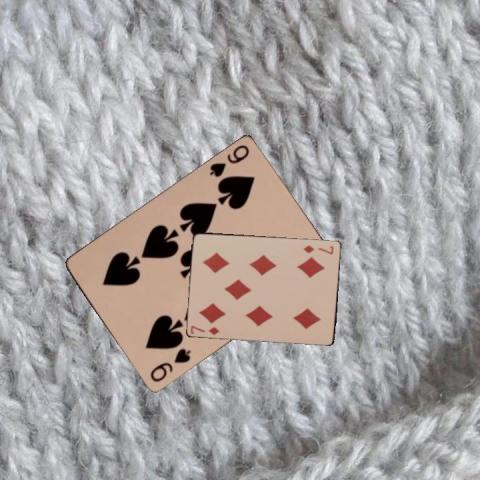7d: (300, 242, 334, 255), (187, 323, 221, 336)
9s: (146, 345, 192, 384), (206, 142, 251, 179)
